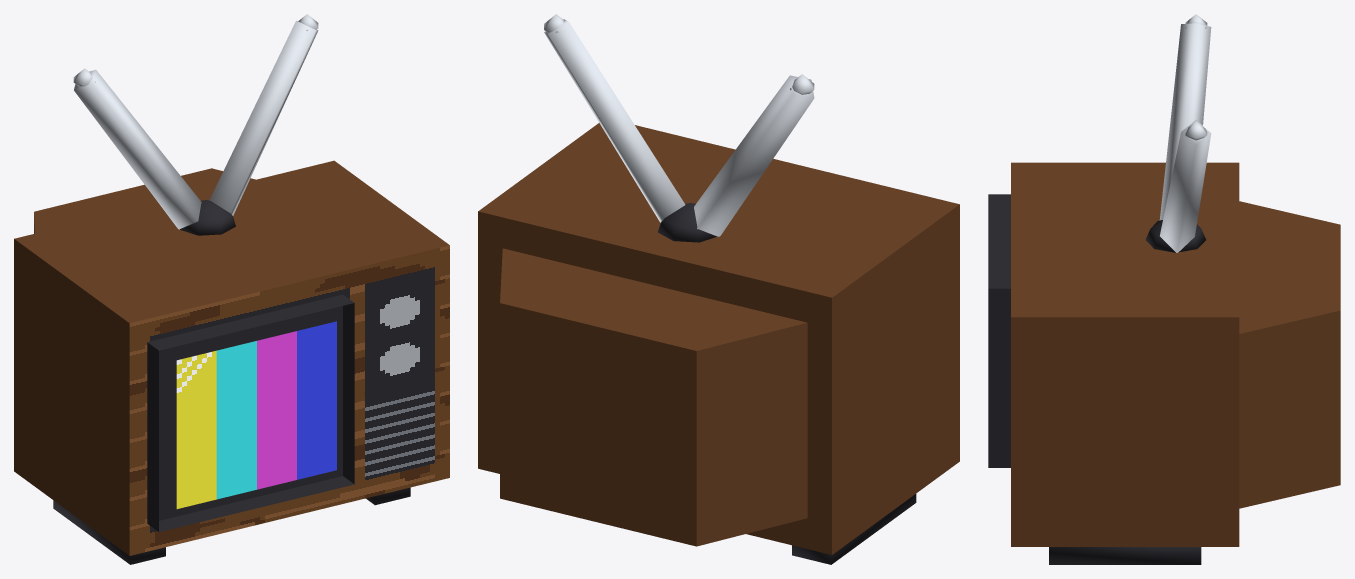
File: around-television.glb
3 views of the same model, side by side, from view 1: azimuth 30°, elevation 25°; view 2: azimuth 150°, elevation 25°; view 3: azimuth 270°, elevation 25° (orthographic). The views are drawn at different scales.
Parts seen in each view (by area): view 1: around.television; view 2: around.television; view 3: around.television.
Boxes of the visible parts, x1=… form: around.television: x1=14, y1=14, x2=449, y2=564; around.television: x1=478, y1=14, x2=959, y2=564; around.television: x1=988, y1=14, x2=1340, y2=564.
Size of the model in its own units: 1.16 by 1.5 by 1.12.
6 materials, 2 textured.
